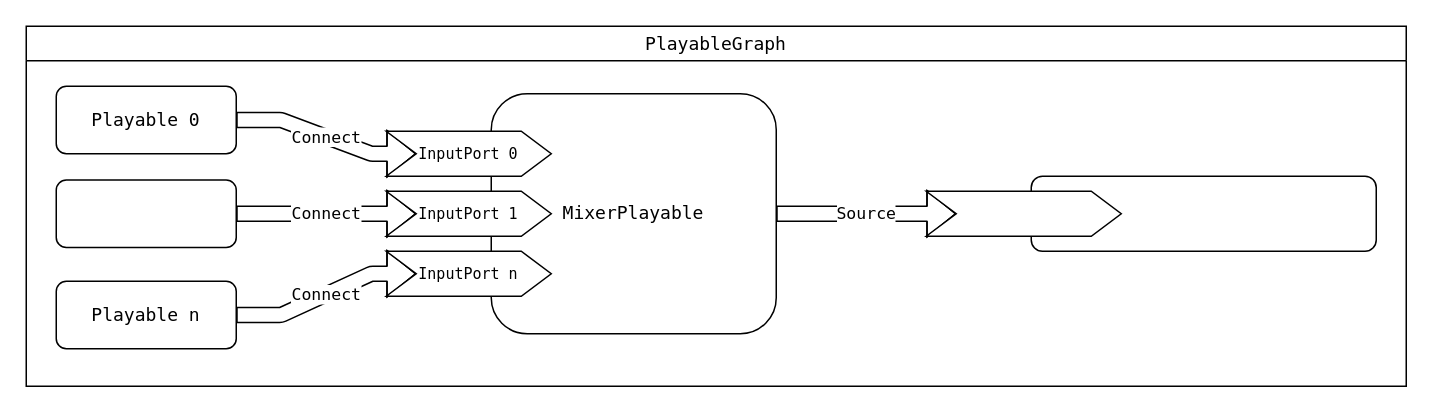
Image size: 1433x413. Some labels were removed from this diagram. Here are the shapes that lost their labels. From the top down, the box of each, then its label:
(55, 178, 236, 248): Playable 1
(925, 190, 1121, 236): SourcePlayable
(1030, 175, 1376, 251): PlayableOutput
